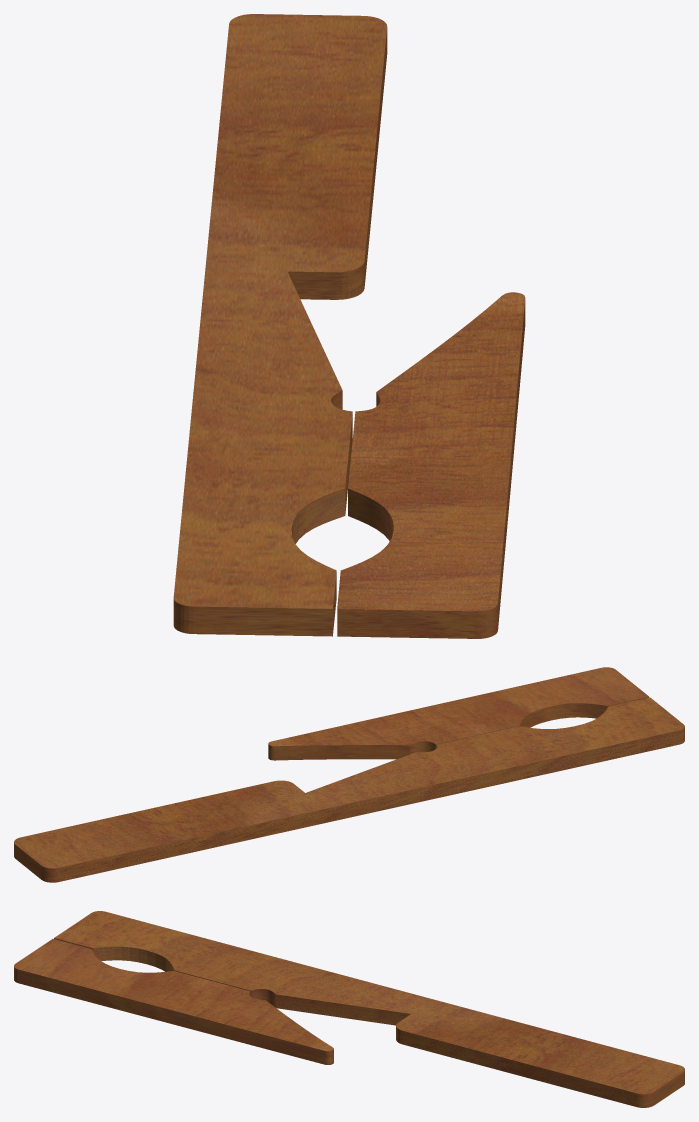
The model's file is chemical_Test tube holder.FBX.
The picture shows the model from 3 angles, top to bottom: view 1: azimuth 30°, elevation 25°; view 2: azimuth 150°, elevation 25°; view 3: azimuth 270°, elevation 25°; orthographic projection. The views are drawn at different scales.
Parts seen in each view (by area): view 1: chemical_Test tube holder; view 2: chemical_Test tube holder; view 3: chemical_Test tube holder.
Part boxes in pixels (x1,y1,x2,y2): chemical_Test tube holder: (173, 14, 525, 638); chemical_Test tube holder: (14, 667, 684, 882); chemical_Test tube holder: (14, 911, 684, 1107).
Bounding box in the file's own units: 8.33 × 0.2922 × 12.89.
Materials: 1 (1 with a texture image).
